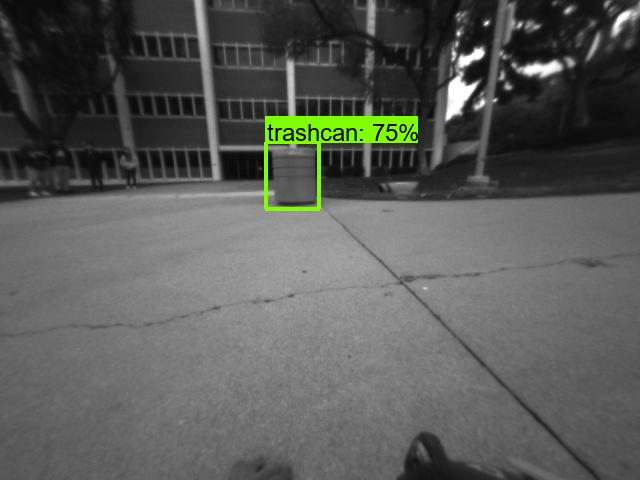trashcan: (271, 143, 323, 207)
